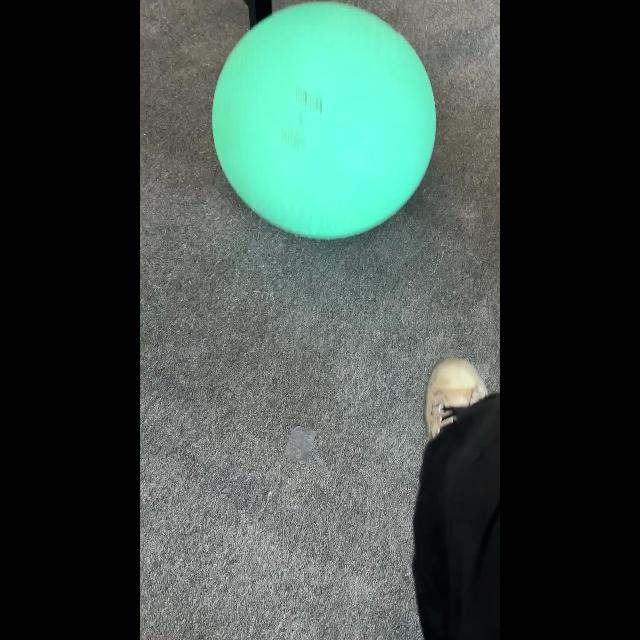ALGAE: (211, 0, 437, 240)
